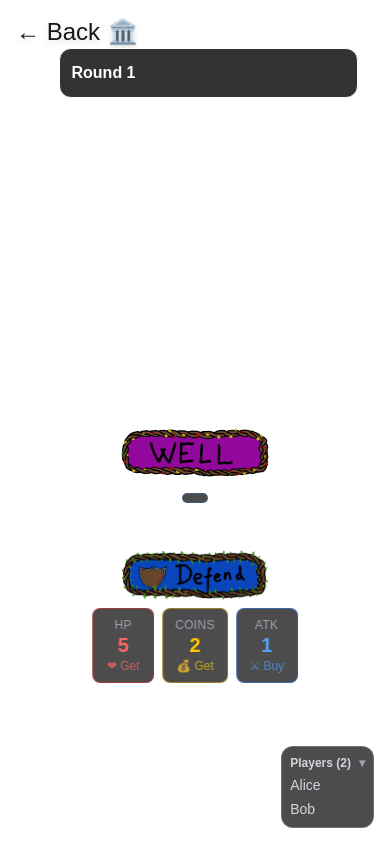
Test: player list › collapses to just the header/count on click, and expands again on a second click
Expected: the text "Bob" is shown, [290,799,315,819]
Step 1. Click the text "Players (2)" → click(321, 763), box [290,755,351,771]
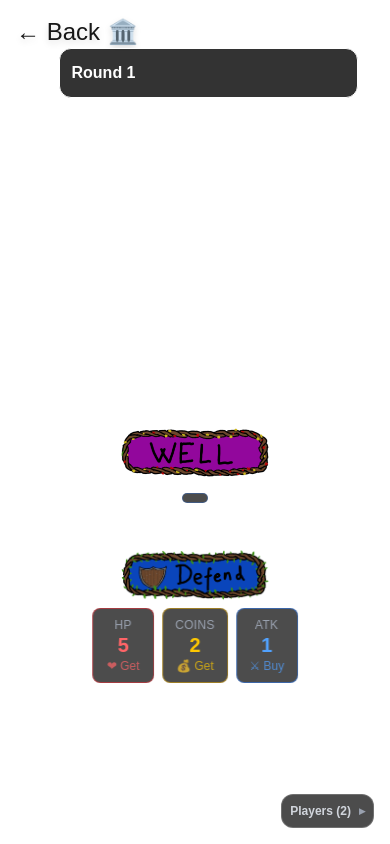
Expected: the text "Bob" is gone
Step 2. Click the text "Players (2)" → click(321, 811), box [290,803,351,819]
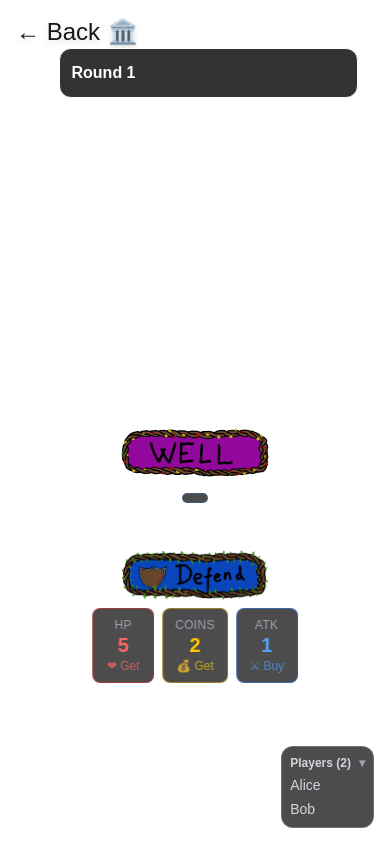
Expected: the text "Bob" is shown, [290,799,315,819]
